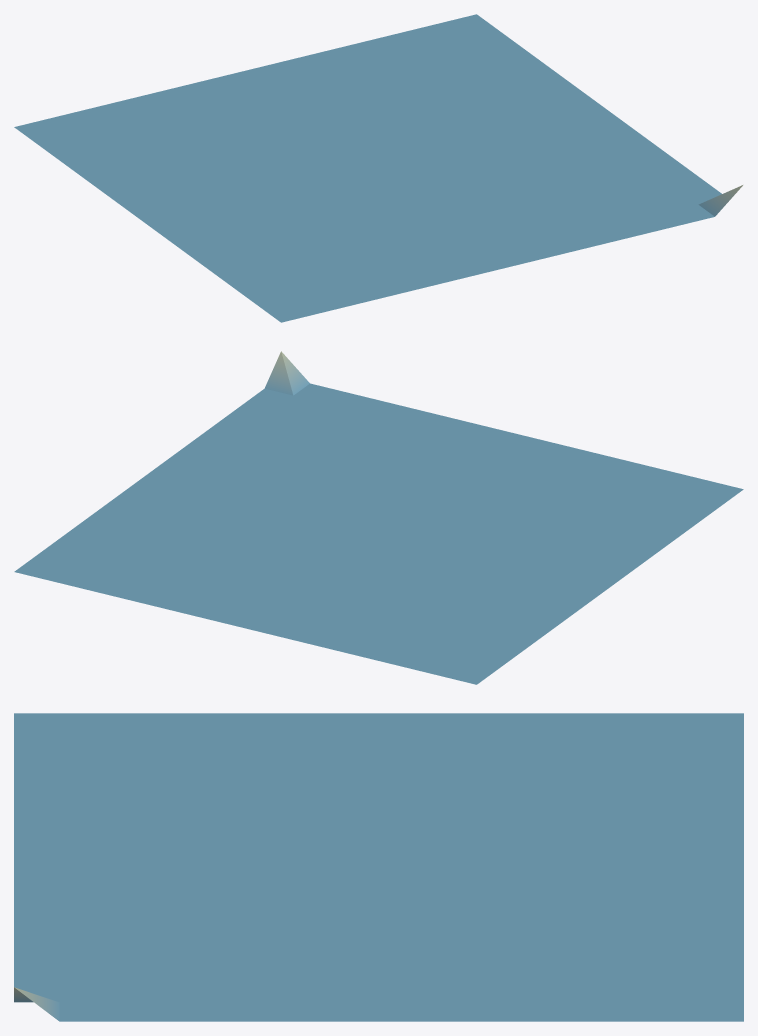
The picture shows the model from 3 angles, top to bottom: view 1: azimuth 30°, elevation 25°; view 2: azimuth 150°, elevation 25°; view 3: azimuth 270°, elevation 25°; orthographic projection. The views are drawn at different scales.
Bounding box in the file's own units: 32 × 1.67 × 32.
